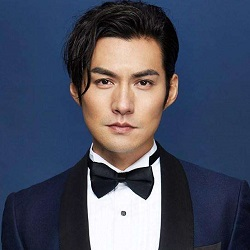unmask: (76, 63, 169, 158)
